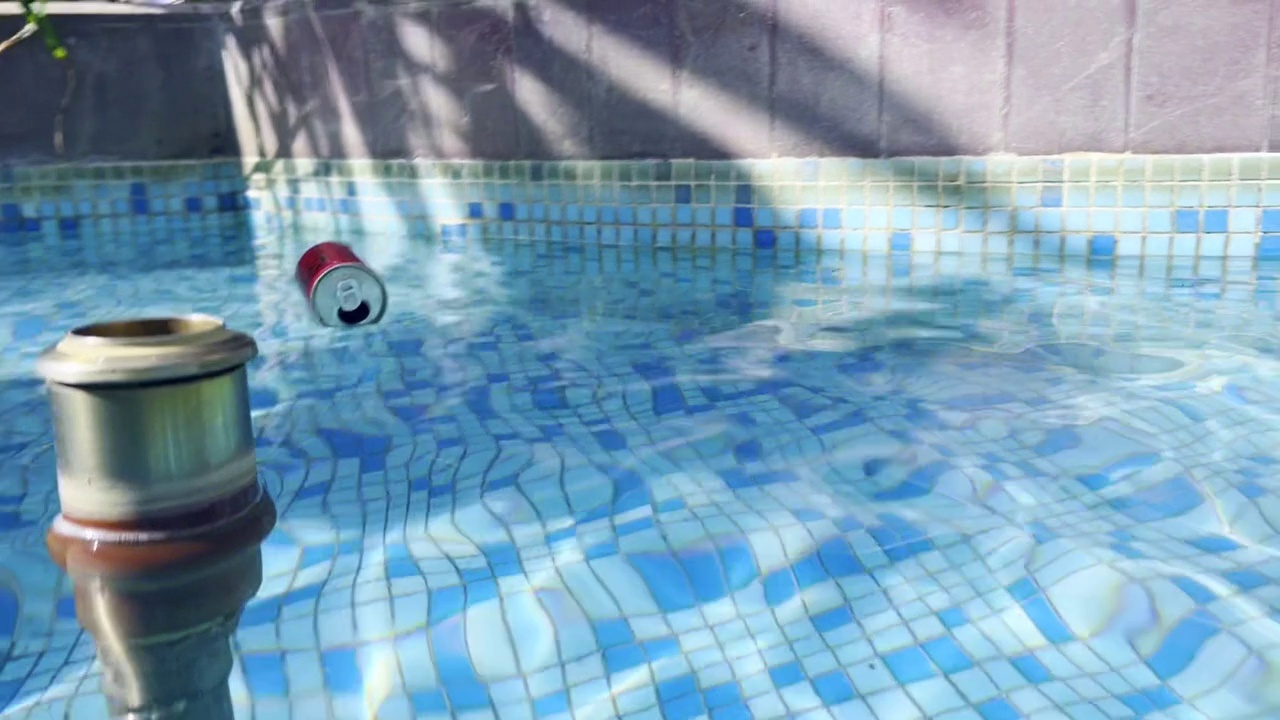debris: (276, 236, 392, 338)
